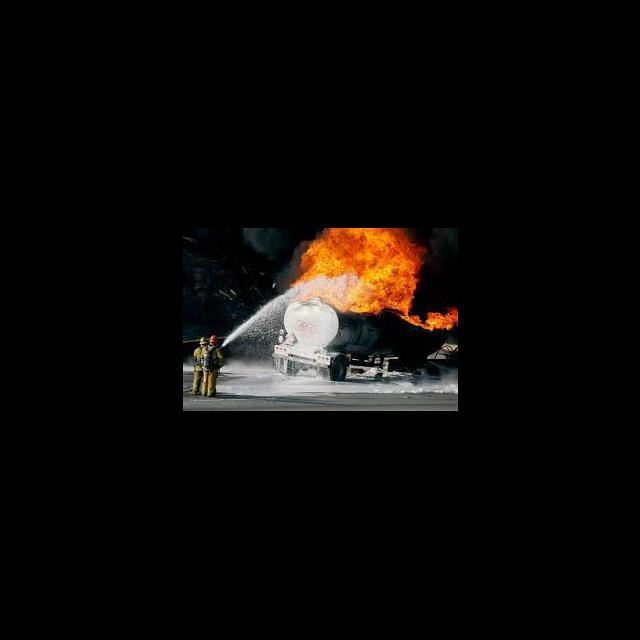Fire: (292, 228, 429, 316), (402, 305, 458, 334)
